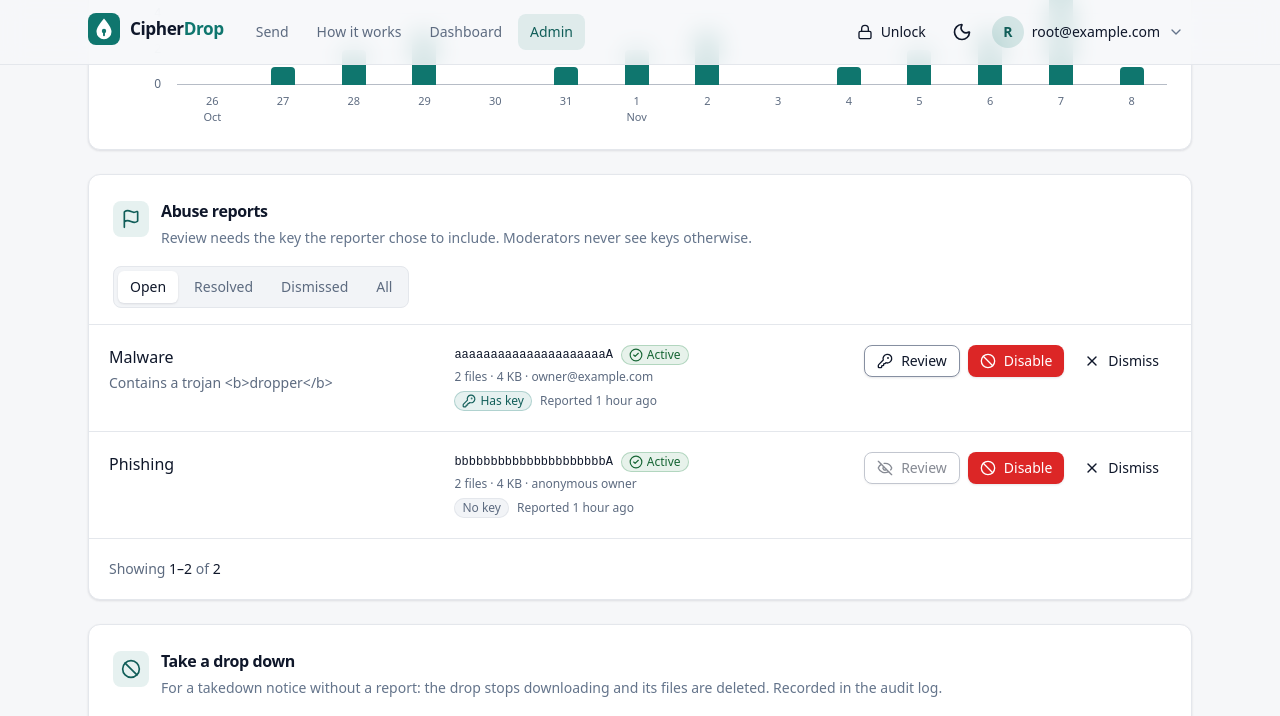
Test: AdminPage reports › asks for a step-up when the API withholds the key (server-3)
(page scrolled)
Step 1. Click the button "Review" in the row of "Contains a trojan <b>dropper</b>" → click(912, 360), box [864,344,960,376]
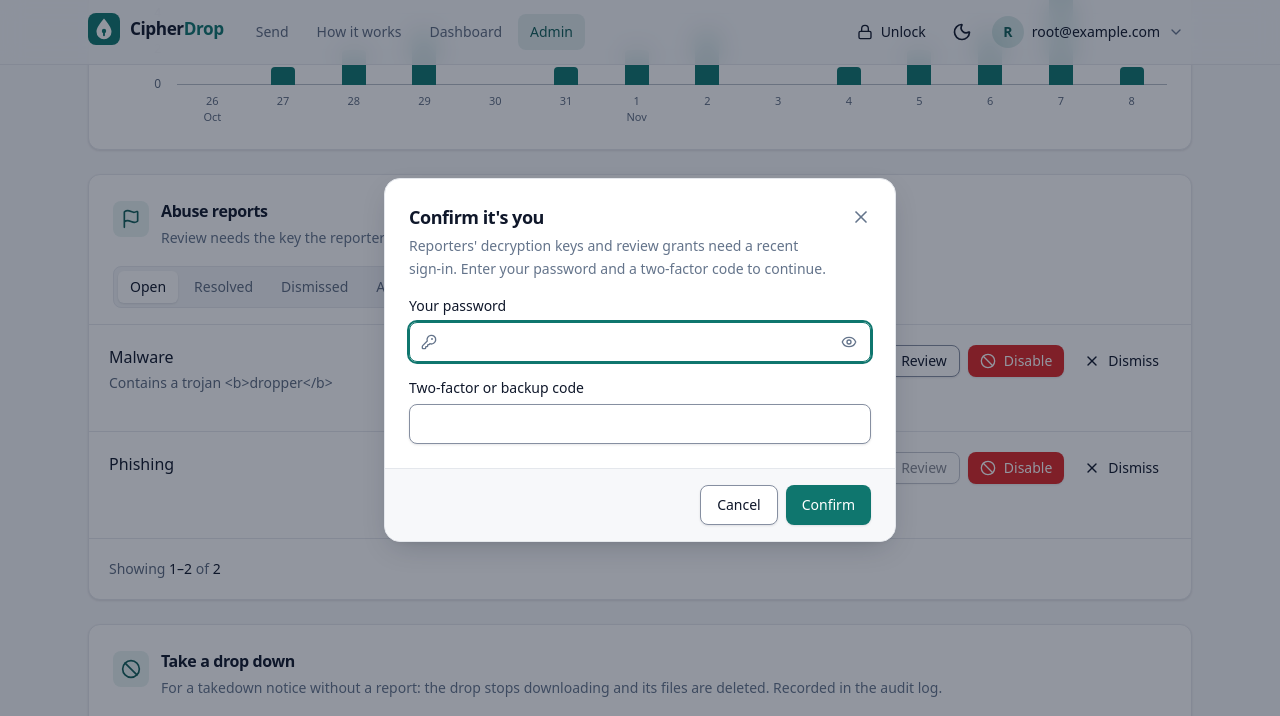
Now the password field labelled "Your password" is shown, box [409,322,871,362]
Now the field labelled "Two-factor or backup code" is shown, box [409,404,871,444]
